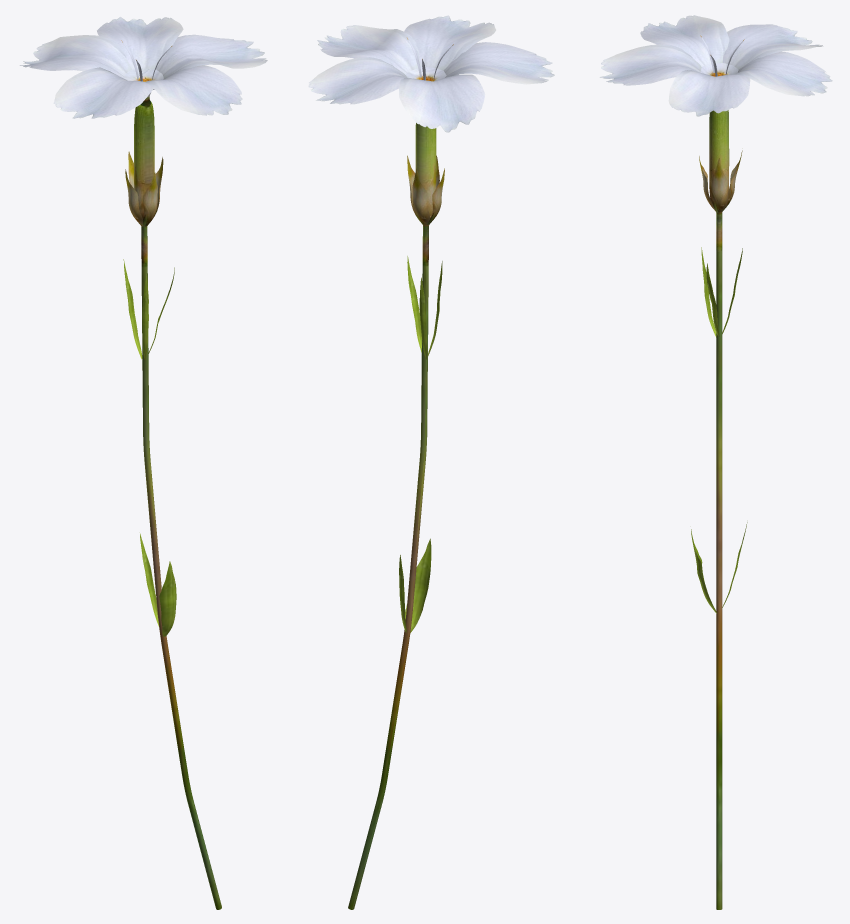
Rendered from Garofanino.glb.
3 views of the same model, side by side, from view 1: azimuth 30°, elevation 25°; view 2: azimuth 150°, elevation 25°; view 3: azimuth 270°, elevation 25° (orthographic). The views are drawn at different scales.
Parts seen in each view (by area): view 1: Plane.056, Garofanino, Garofanino.007, Garofanino.005; view 2: Plane.056, Garofanino, Garofanino.007, Garofanino.003; view 3: Plane.056, Garofanino, Garofanino.001.
Boxes of the visible parts, box(x1,y1,x2,y2) form: Plane.056: box(19, 16, 267, 118); Garofanino: box(134, 89, 221, 909); Garofanino.007: box(159, 561, 176, 636); Garofanino.005: box(143, 172, 157, 226); Plane.056: box(308, 15, 554, 132); Garofanino: box(348, 123, 436, 909); Garofanino.007: box(405, 538, 431, 632); Garofanino.003: box(412, 168, 429, 225); Plane.056: box(599, 15, 832, 116); Garofanino: box(709, 110, 729, 909); Garofanino.001: box(711, 159, 727, 212).
Size of the model in its own units: 0.3342 by 1.24 by 0.3312.
2 materials, 2 textured.
